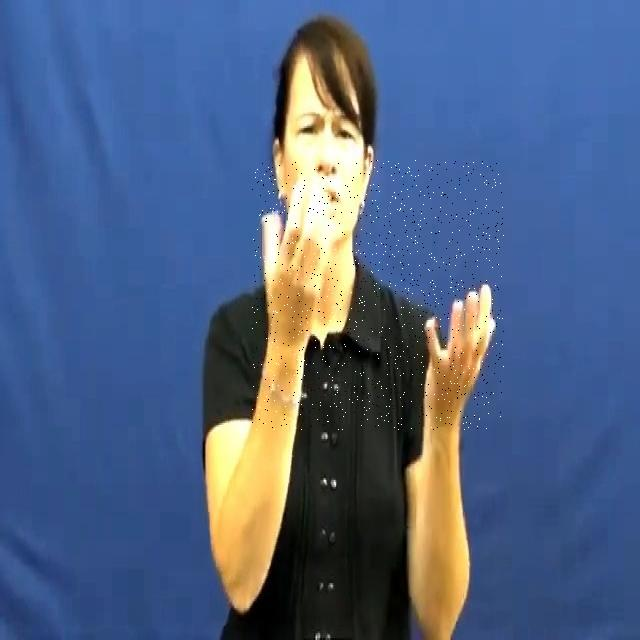menu: (252, 160, 504, 430)
